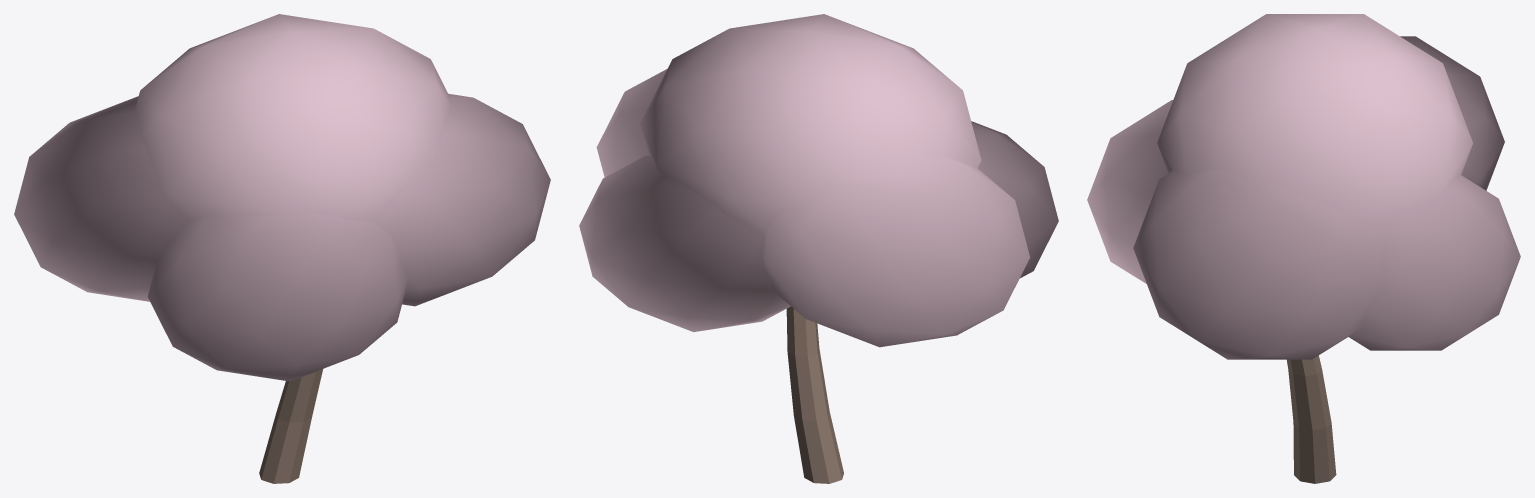
Rendered from cherry_blossom_tree.glb.
3 views of the same model, side by side, from view 1: azimuth 30°, elevation 25°; view 2: azimuth 150°, elevation 25°; view 3: azimuth 270°, elevation 25° (orthographic). The views are drawn at different scales.
Parts seen in each view (by area): view 1: Tree_Street_1_Canopy, Tree_Street_1_Trunk; view 2: Tree_Street_1_Canopy, Tree_Street_1_Trunk; view 3: Tree_Street_1_Canopy, Tree_Street_1_Trunk.
Part boxes in pixels (x1,y1,x2,y2): Tree_Street_1_Canopy: (14,14,550,381); Tree_Street_1_Trunk: (259,369,322,483); Tree_Street_1_Canopy: (579,14,1058,347); Tree_Street_1_Trunk: (786,306,843,483); Tree_Street_1_Canopy: (1087,14,1520,359); Tree_Street_1_Trunk: (1287,355,1336,483).
Size of what is drawn, in the model's own units: 6.62 by 6.26 by 5.45.
